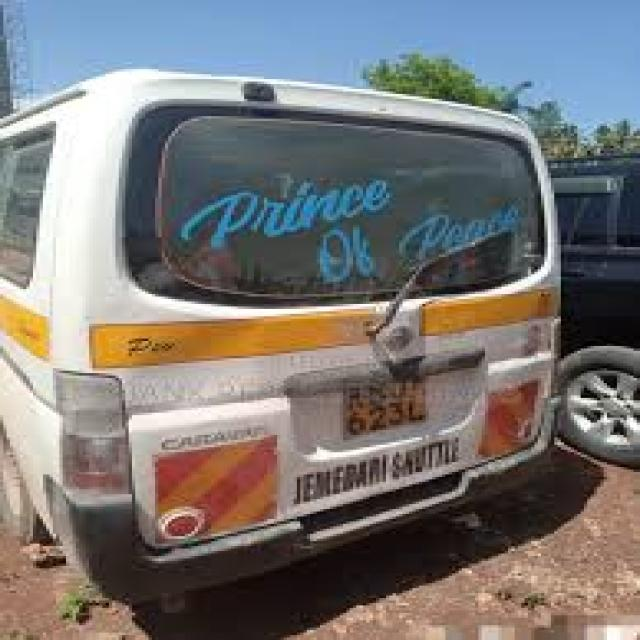matatu: (0, 52, 614, 623)
